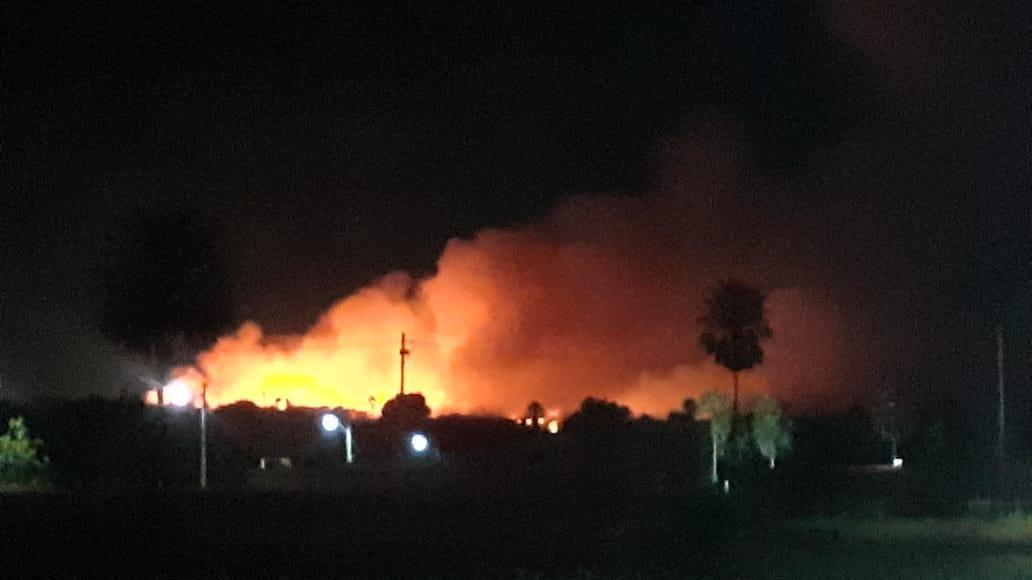fire: (251, 377, 376, 416)
smoke: (467, 289, 657, 361)
